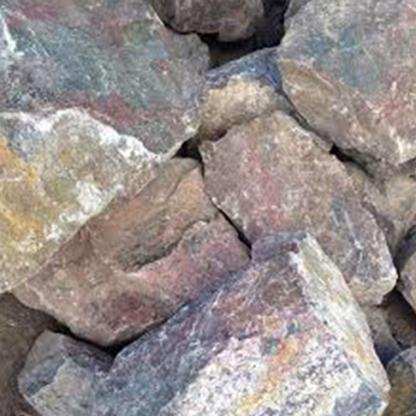Igneous_Diorite: (1, 226, 381, 415), (1, 100, 239, 362)
